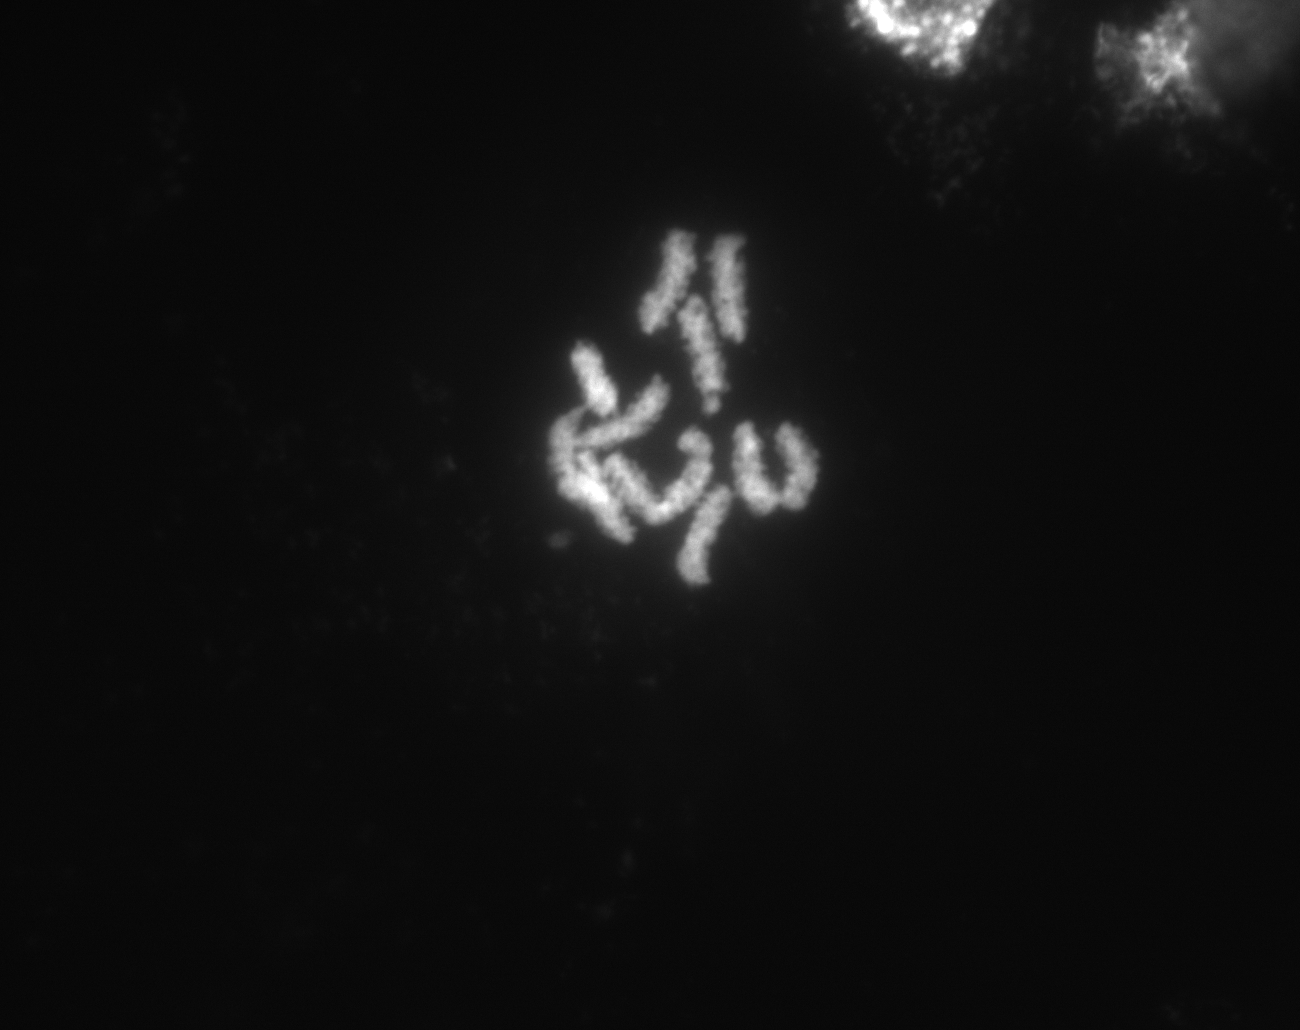Chromosomes: (475, 128, 875, 619)
Others: (1051, 8, 1294, 172)
